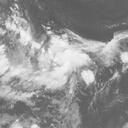cyclone: (34, 37, 96, 100)
